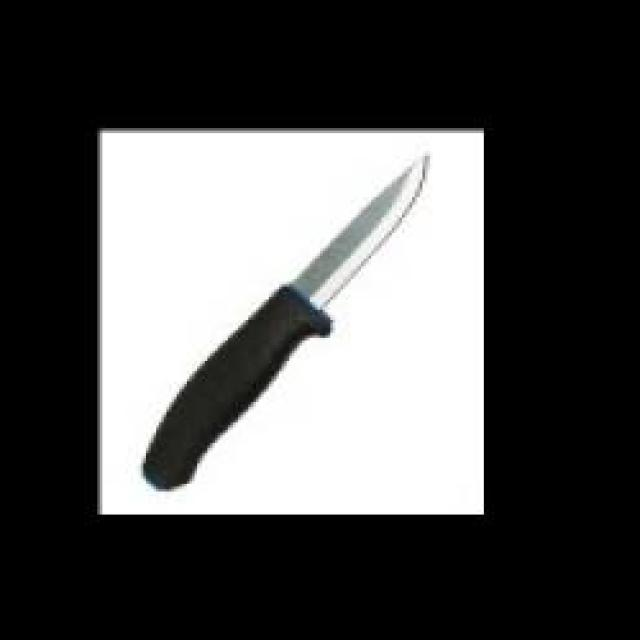knife: (124, 148, 443, 504)
